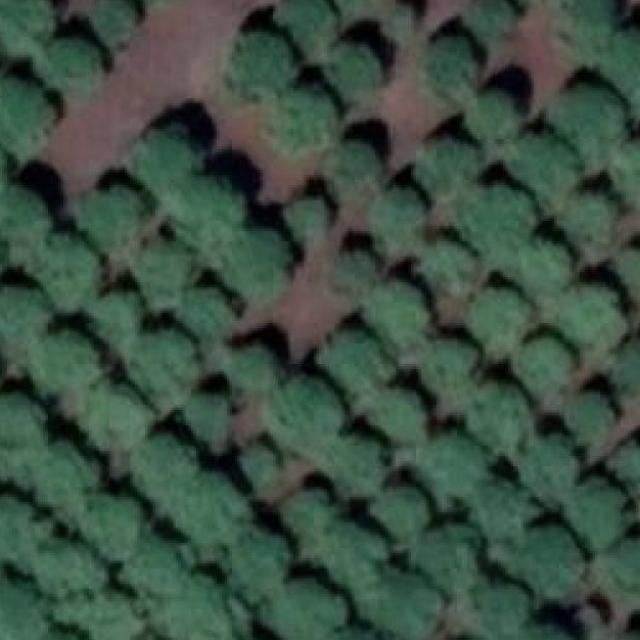Tree: (122, 122, 196, 196), (127, 328, 201, 402), (217, 226, 290, 301), (225, 27, 298, 100), (170, 175, 242, 248), (158, 581, 245, 640), (26, 336, 99, 406), (462, 180, 536, 249), (319, 428, 393, 497), (176, 471, 244, 546), (32, 35, 111, 99), (509, 533, 580, 604), (268, 384, 336, 457), (419, 430, 490, 499), (35, 234, 104, 305), (26, 438, 94, 510), (507, 134, 582, 199), (131, 236, 196, 311), (79, 182, 145, 254), (552, 81, 626, 145), (512, 433, 580, 502), (558, 485, 626, 554), (321, 37, 391, 104), (469, 480, 536, 550), (553, 282, 623, 348), (268, 81, 339, 145), (313, 525, 387, 586), (464, 285, 531, 351), (117, 533, 183, 600), (82, 382, 150, 447), (266, 578, 337, 640), (32, 536, 101, 599), (323, 333, 393, 395), (552, 185, 616, 252), (373, 578, 442, 640), (222, 527, 290, 589), (467, 573, 531, 637), (219, 333, 285, 395), (412, 139, 480, 199), (512, 236, 580, 296), (363, 285, 426, 348), (467, 379, 529, 443), (415, 336, 475, 402), (133, 433, 196, 495), (0, 279, 53, 352), (424, 517, 480, 586), (0, 80, 53, 152), (0, 492, 53, 564), (79, 592, 157, 640), (512, 336, 572, 398), (85, 492, 145, 554), (366, 185, 426, 246), (284, 481, 345, 541), (0, 190, 51, 261), (557, 389, 616, 449), (371, 387, 428, 449), (418, 233, 478, 291), (422, 35, 478, 96), (88, 287, 142, 350), (594, 24, 640, 97), (0, 571, 48, 640), (466, 88, 520, 149), (276, 0, 342, 48), (328, 134, 386, 188), (368, 485, 426, 539), (181, 288, 240, 340), (276, 188, 331, 243), (0, 0, 56, 54), (72, 0, 140, 43), (183, 384, 239, 436), (0, 393, 38, 467), (553, 0, 614, 43), (458, 0, 520, 40), (325, 246, 377, 292), (605, 134, 640, 199), (609, 331, 640, 398), (609, 531, 640, 597), (378, 1, 421, 42), (613, 439, 640, 502), (241, 446, 280, 488), (619, 249, 640, 305), (521, 624, 587, 640), (0, 147, 13, 201)
